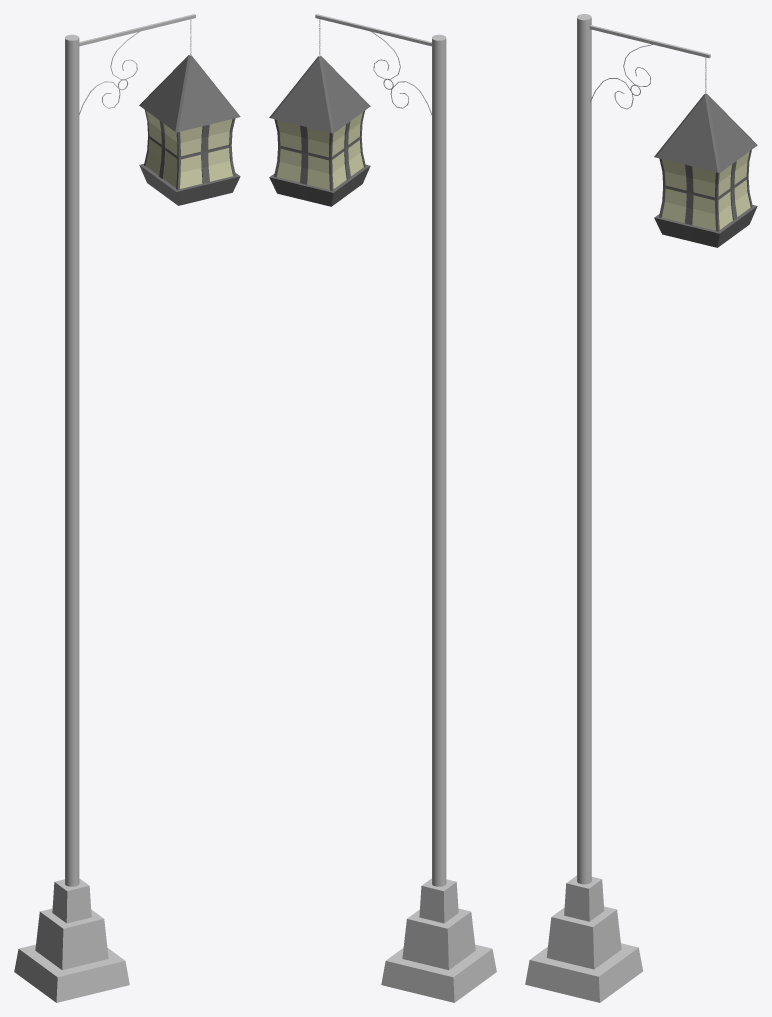
The model's file is Street_Lamp_Textured.fbx.
3 views of the same model, side by side, from view 1: azimuth 30°, elevation 25°; view 2: azimuth 150°, elevation 25°; view 3: azimuth 330°, elevation 25° (orthographic). The views are drawn at different scales.
Visible parts, largest first — view 1: polySurface55, polySurface52, polySurface53; view 2: polySurface55, polySurface52, polySurface53; view 3: polySurface55, polySurface52, polySurface53.
Boxes of the visible parts, x1,y1,x2,y2 form: polySurface55: (65, 14, 195, 886); polySurface52: (139, 55, 240, 205); polySurface53: (14, 878, 129, 1002); polySurface55: (315, 14, 446, 886); polySurface52: (269, 56, 370, 206); polySurface53: (381, 878, 496, 1002); polySurface55: (577, 14, 710, 884); polySurface52: (654, 94, 757, 247); polySurface53: (525, 875, 642, 1002).
Size of the model in its own units: 1.21 by 5.8 by 0.4733.
